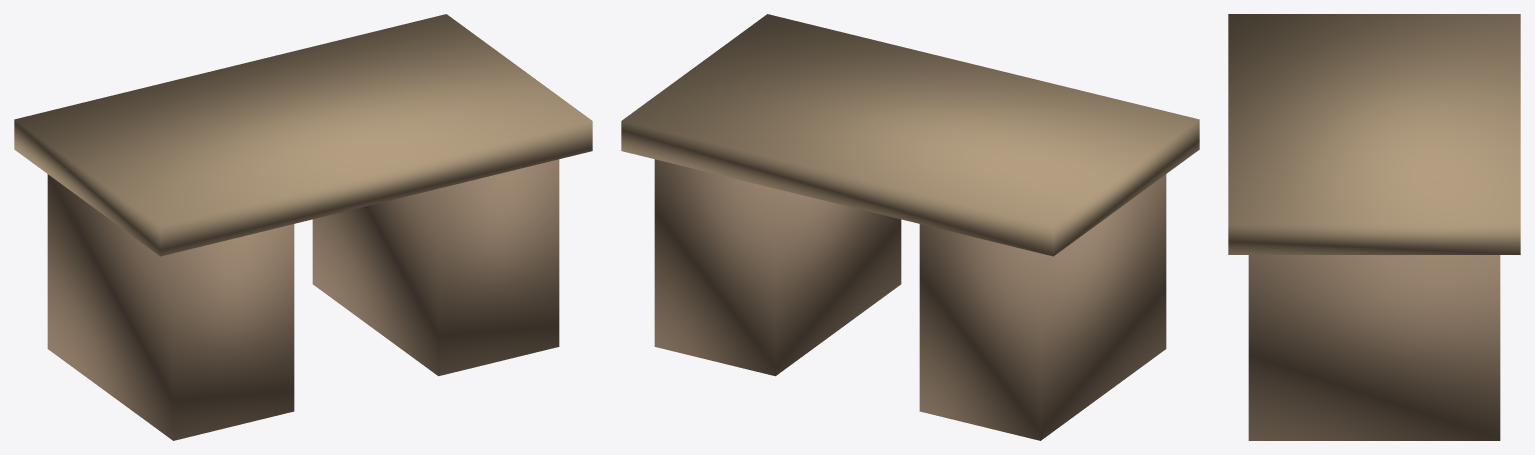
Rendered from teacher_desk__deep.glb.
The picture shows the model from 3 angles, left to right: view 1: azimuth 30°, elevation 25°; view 2: azimuth 150°, elevation 25°; view 3: azimuth 270°, elevation 25°; orthographic projection.
Visible parts, largest first — view 1: world; view 2: world; view 3: world.
Part boxes in pixels (x1,y1,x2,y2): world: [14, 14, 592, 440]; world: [621, 14, 1199, 440]; world: [1228, 14, 1520, 440].
Bounding box in the file's own units: 1.5 × 0.755 × 0.8784.
